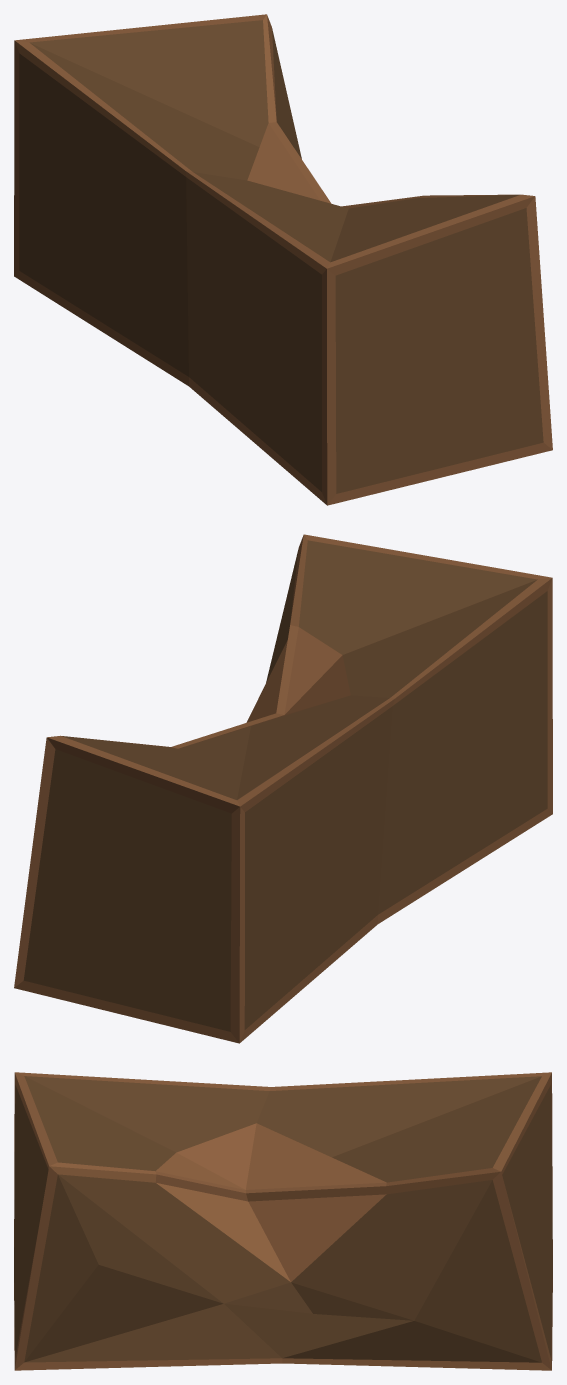
Rendered from apocalypse-cargo-apocalypse-e.glb.
3 views of the same model, one above another, from view 1: azimuth 30°, elevation 25°; view 2: azimuth 150°, elevation 25°; view 3: azimuth 270°, elevation 25° (orthographic). The views are drawn at different scales.
Visible parts, largest first — view 1: cargo-apocalypse-e; view 2: cargo-apocalypse-e; view 3: cargo-apocalypse-e.
Part boxes in pixels (box(x1,y1,x2,y2)): cargo-apocalypse-e: box(14, 14, 552, 505); cargo-apocalypse-e: box(14, 534, 552, 1043); cargo-apocalypse-e: box(14, 1072, 552, 1370).
Bounding box in the file's own units: 2.53 × 2.54 × 6.
